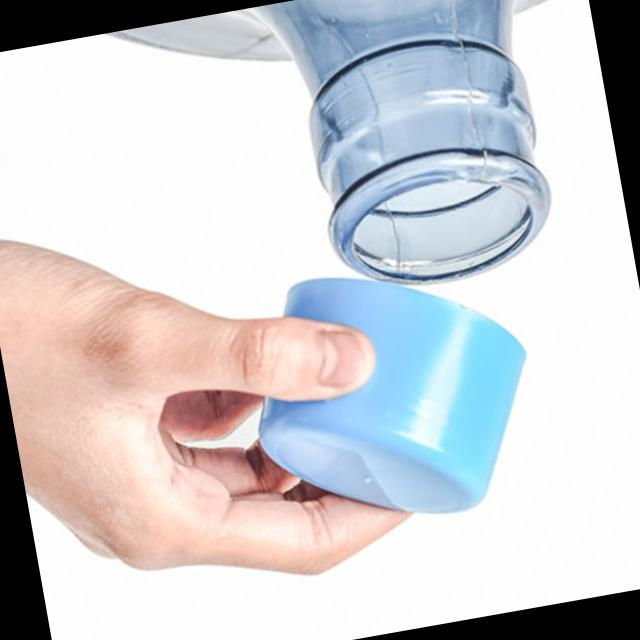TutupGalon: (234, 243, 556, 546)
